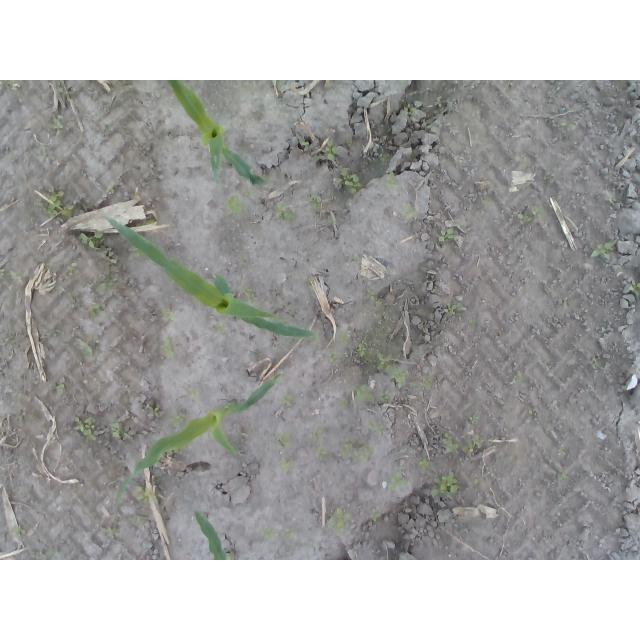Maize: (104, 213, 319, 340), (118, 371, 283, 500), (167, 81, 271, 188), (194, 510, 225, 560)
Weeds: (337, 436, 375, 465), (430, 469, 464, 499), (332, 167, 362, 193), (326, 506, 353, 534), (44, 190, 72, 216), (71, 415, 97, 441), (383, 471, 413, 489), (79, 230, 106, 250), (273, 200, 298, 220), (591, 239, 617, 258), (463, 433, 485, 455), (440, 430, 460, 454), (384, 366, 410, 384), (159, 336, 177, 361), (353, 383, 374, 402), (224, 191, 241, 214), (100, 247, 120, 266), (374, 352, 395, 370), (47, 111, 66, 130), (63, 262, 81, 281), (111, 421, 129, 440), (56, 80, 76, 97), (367, 288, 385, 306), (399, 203, 416, 222), (96, 273, 113, 292), (134, 485, 151, 504), (323, 140, 337, 161), (88, 303, 105, 320), (622, 280, 640, 296), (280, 391, 296, 408), (558, 294, 574, 311), (418, 456, 434, 473), (307, 193, 323, 210), (239, 286, 257, 301), (280, 457, 296, 473), (385, 172, 400, 189), (419, 375, 434, 391), (262, 527, 279, 541), (356, 341, 369, 359), (367, 420, 385, 433), (79, 341, 97, 354), (65, 289, 80, 304), (275, 432, 289, 448), (145, 405, 161, 419), (127, 515, 146, 526), (438, 229, 454, 242), (512, 370, 528, 383), (168, 414, 184, 427), (0, 81, 18, 92), (519, 214, 534, 227), (447, 303, 465, 313), (558, 119, 576, 129), (11, 270, 25, 282), (318, 447, 329, 462), (47, 329, 65, 338), (46, 549, 64, 558), (103, 527, 119, 537), (380, 390, 393, 402), (434, 95, 445, 109), (127, 247, 141, 258), (241, 187, 256, 197), (311, 430, 323, 442), (592, 354, 601, 370), (163, 308, 174, 321), (532, 207, 545, 218), (371, 511, 382, 524), (215, 322, 226, 334), (339, 335, 351, 346), (468, 415, 481, 425), (403, 103, 416, 113), (142, 219, 160, 226), (327, 352, 337, 364), (338, 399, 350, 409), (473, 474, 482, 487), (190, 388, 200, 399), (285, 527, 296, 537), (106, 183, 115, 194), (300, 139, 309, 150), (559, 472, 569, 481), (323, 80, 333, 89), (56, 383, 65, 393), (240, 256, 249, 264), (520, 152, 528, 161), (14, 527, 22, 536), (309, 155, 320, 161), (187, 256, 193, 261)
